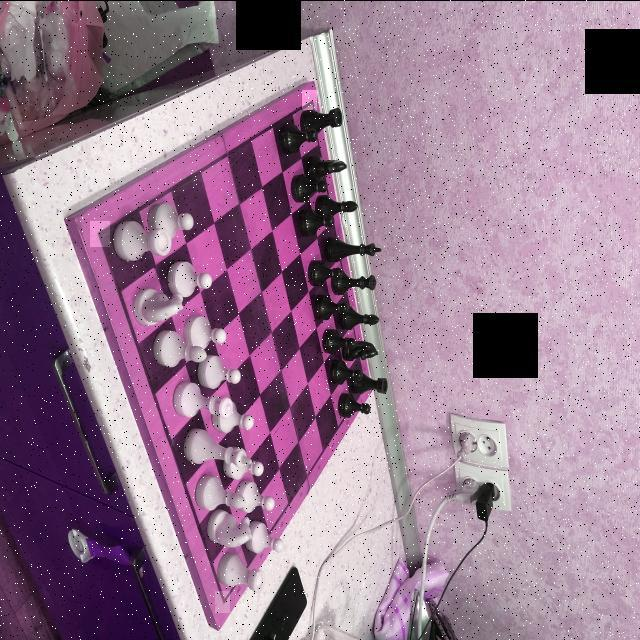chess-table-corners: (90, 220, 110, 246), (215, 590, 230, 612), (300, 89, 316, 109)
